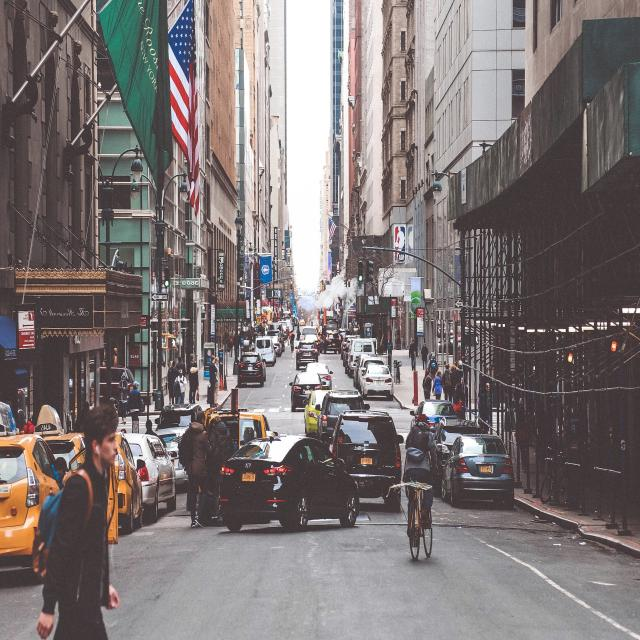adult: (36, 411, 122, 640), (406, 415, 436, 538), (183, 411, 211, 529), (442, 363, 452, 400), (432, 369, 442, 399), (422, 370, 432, 400)
